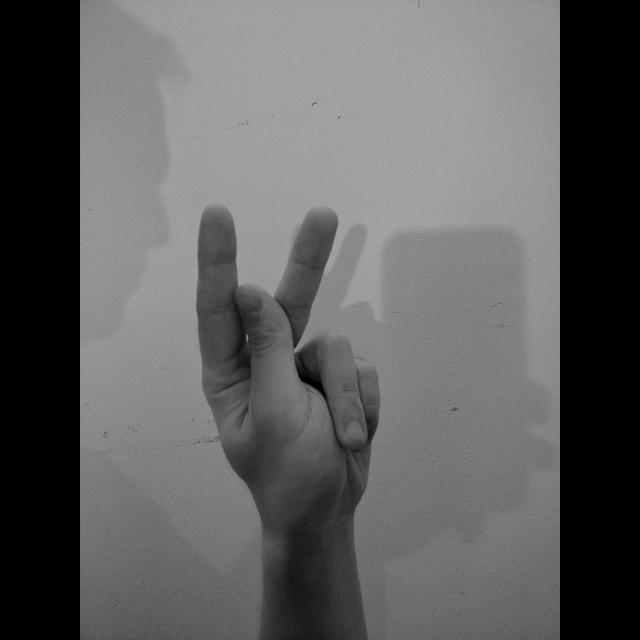K: (190, 196, 386, 534)
